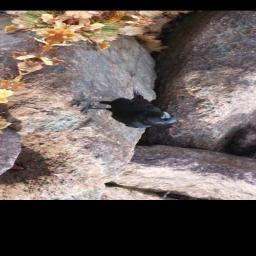Crow: (56, 78, 203, 135)
